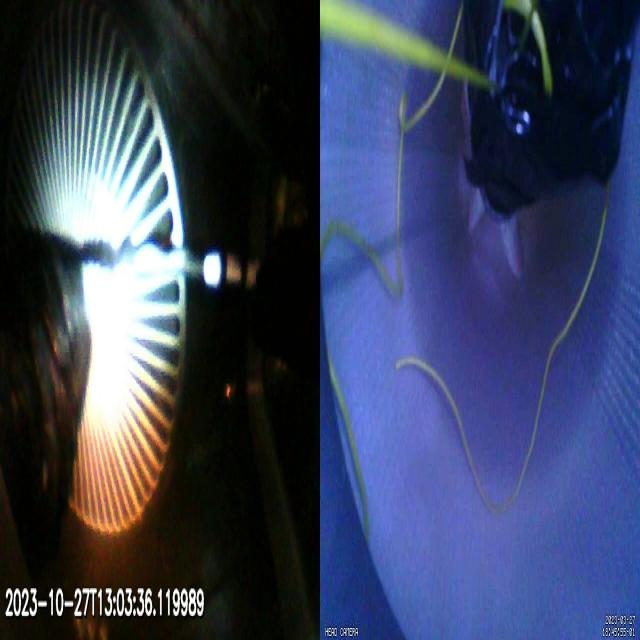white-dots: (203, 253, 261, 291)
